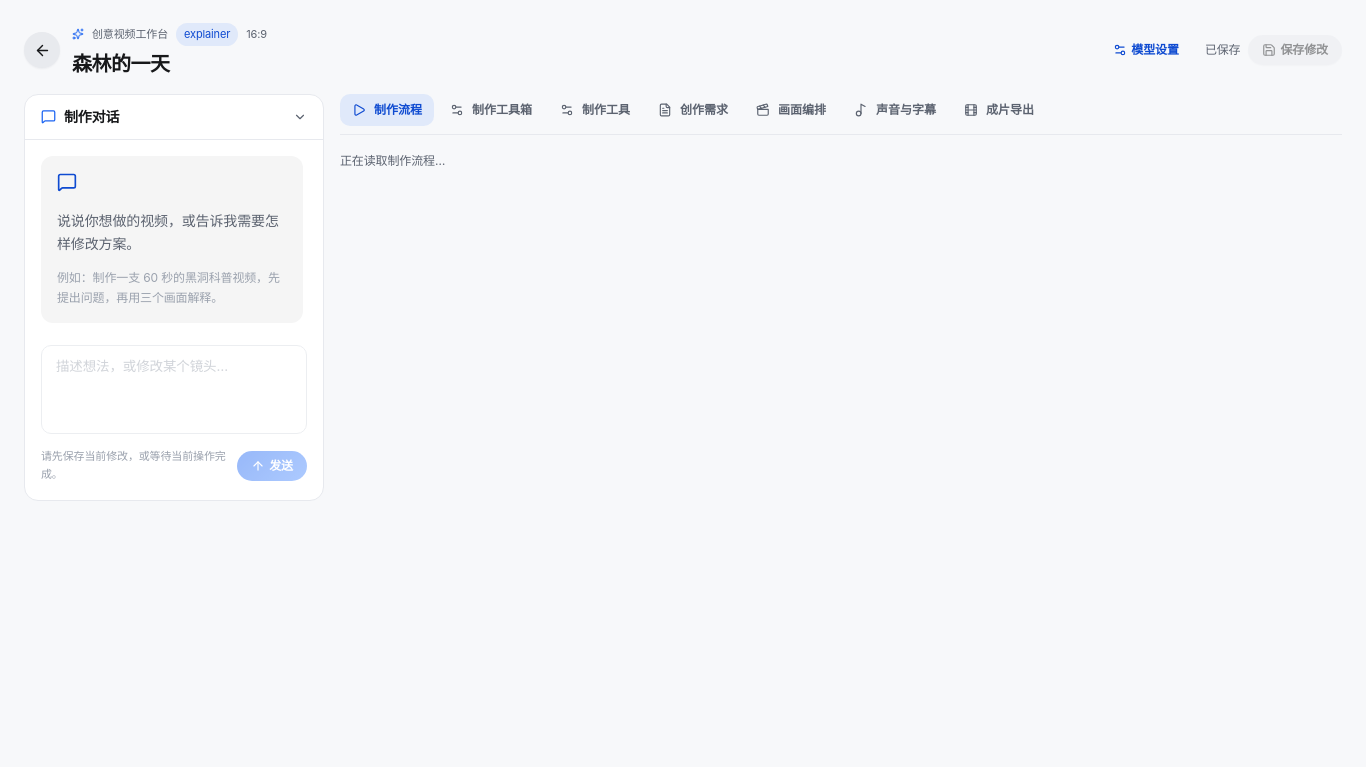
Test: CreativeWorkbenchPage › disables editing during active generation while showing live progress
Click the tab "创作需求": click(693, 110) [646,94,740,126]
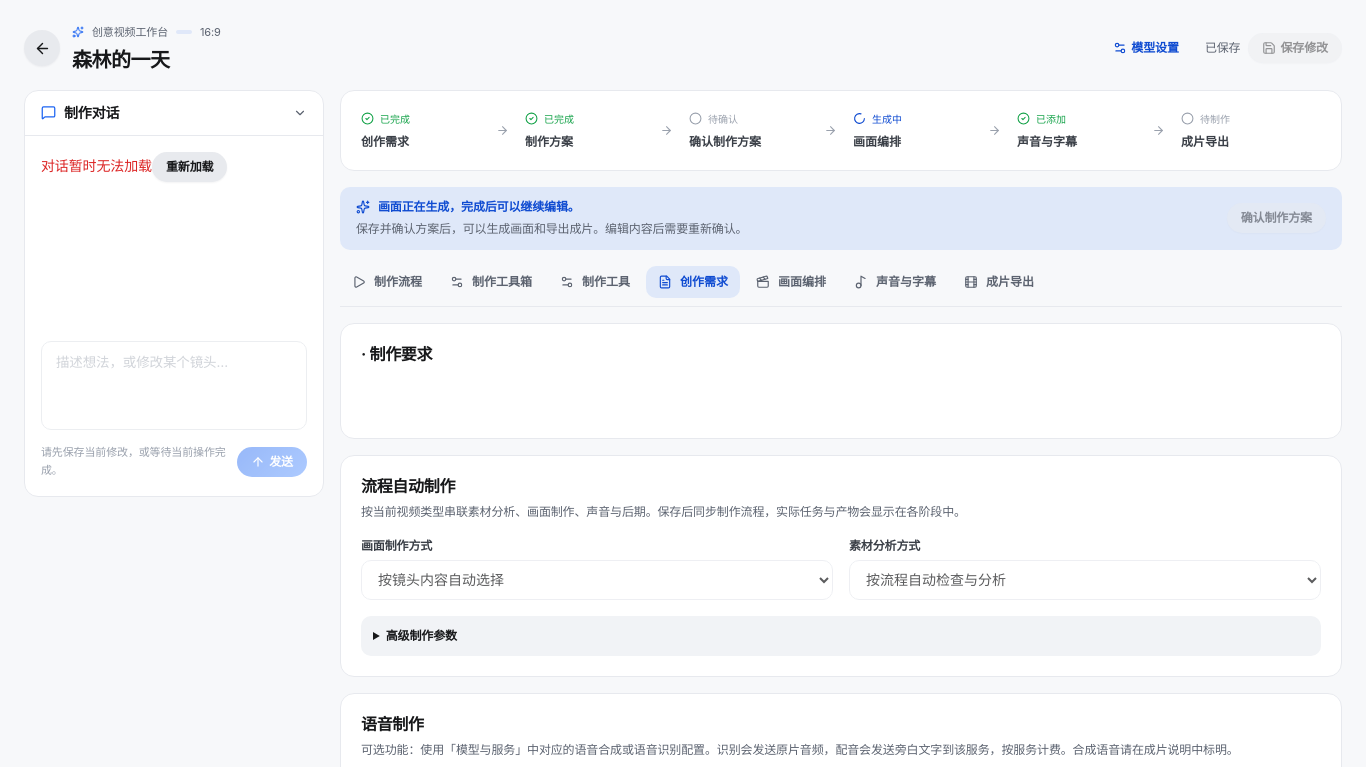
Click the tab "画面编排": click(791, 282) [744,266,838,298]
(page scrolled)
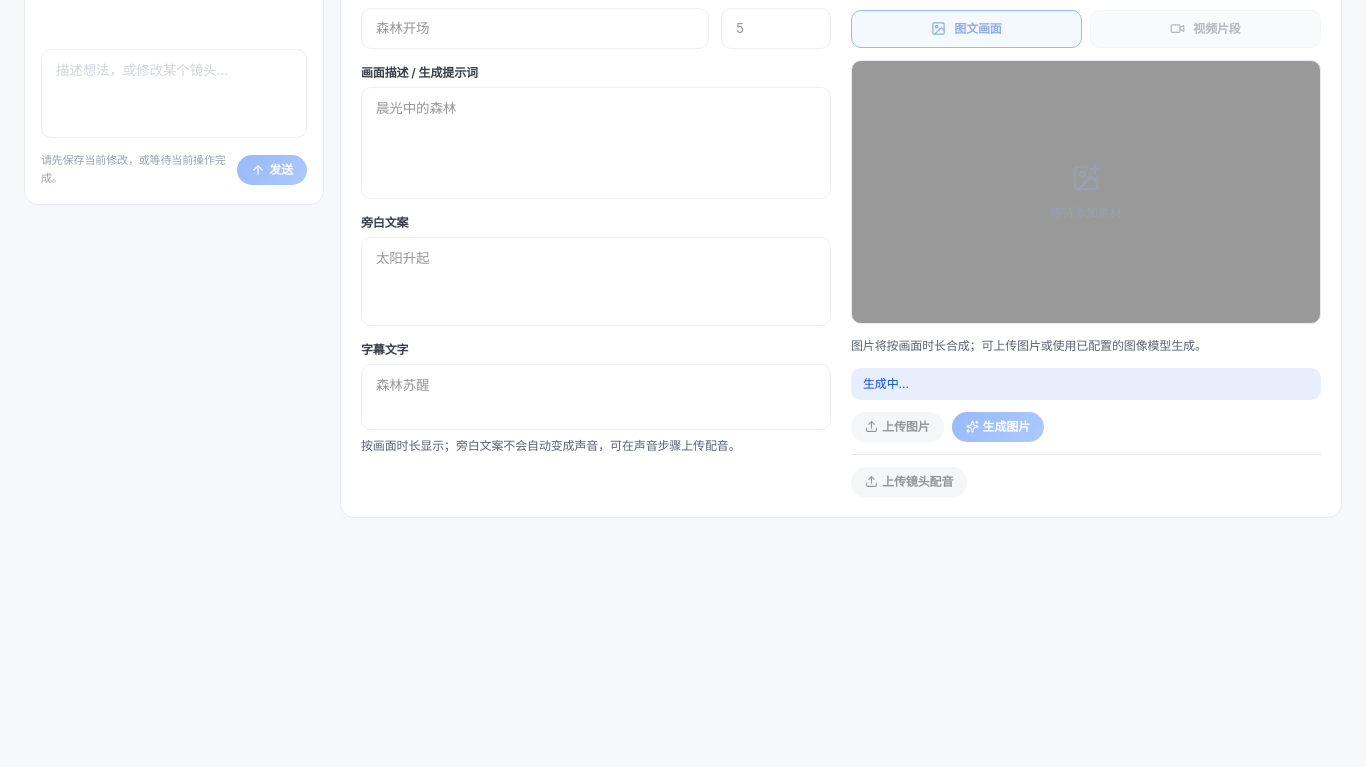
Expected: the text "生成中…" is shown, [851,368,1321,400]
